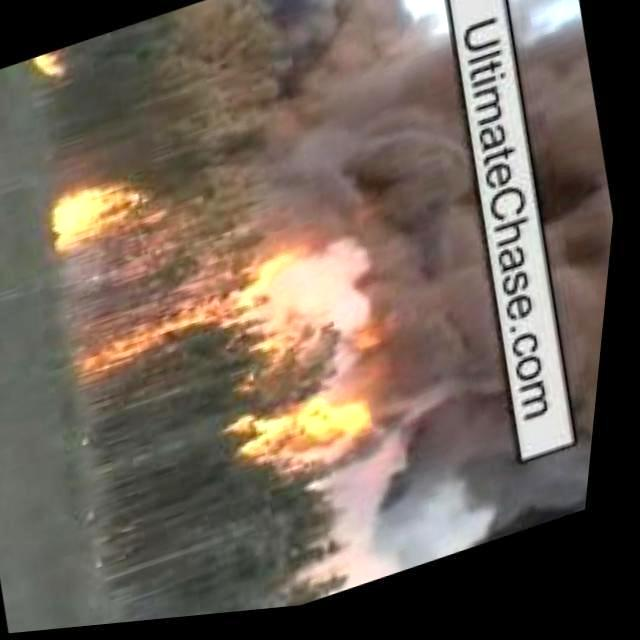fire: (65, 258, 298, 402), (224, 372, 406, 508), (57, 166, 163, 258), (26, 48, 74, 90)
